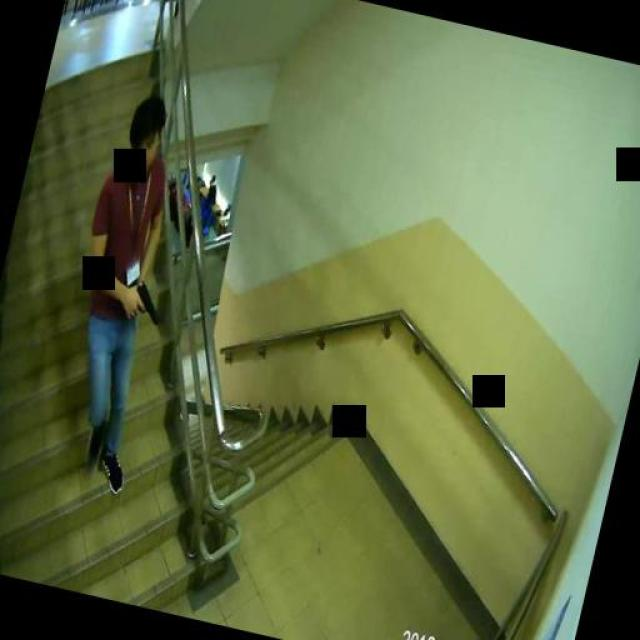gun: (127, 278, 165, 322)
